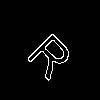R: (24, 24, 82, 82)
